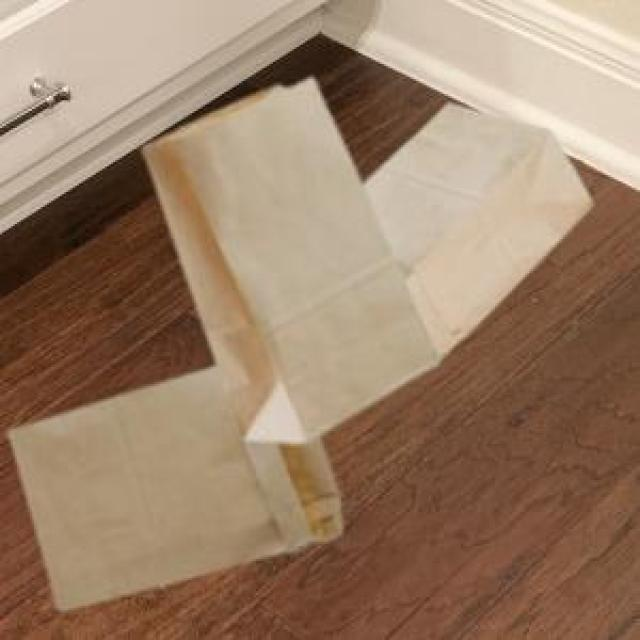paper: (139, 75, 433, 440), (4, 363, 337, 606), (358, 100, 589, 356)
